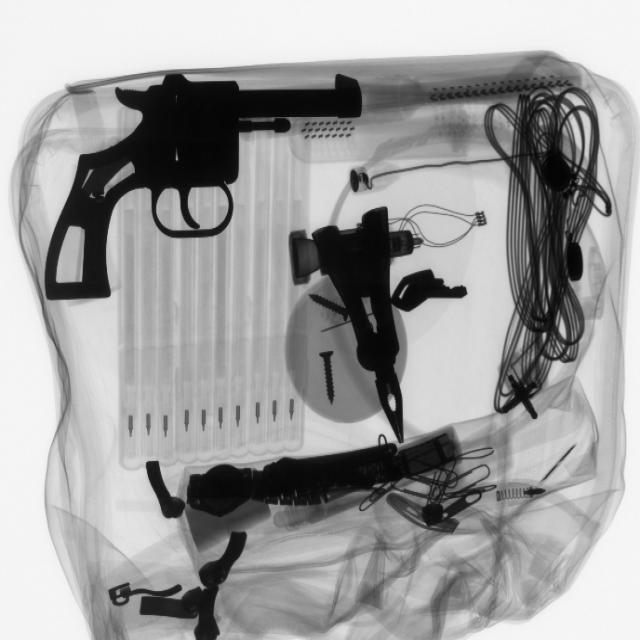BLADE: (388, 268, 474, 327), (537, 445, 580, 493)
GUN: (47, 78, 372, 308)
SCREW: (308, 344, 350, 418), (300, 285, 351, 338)
